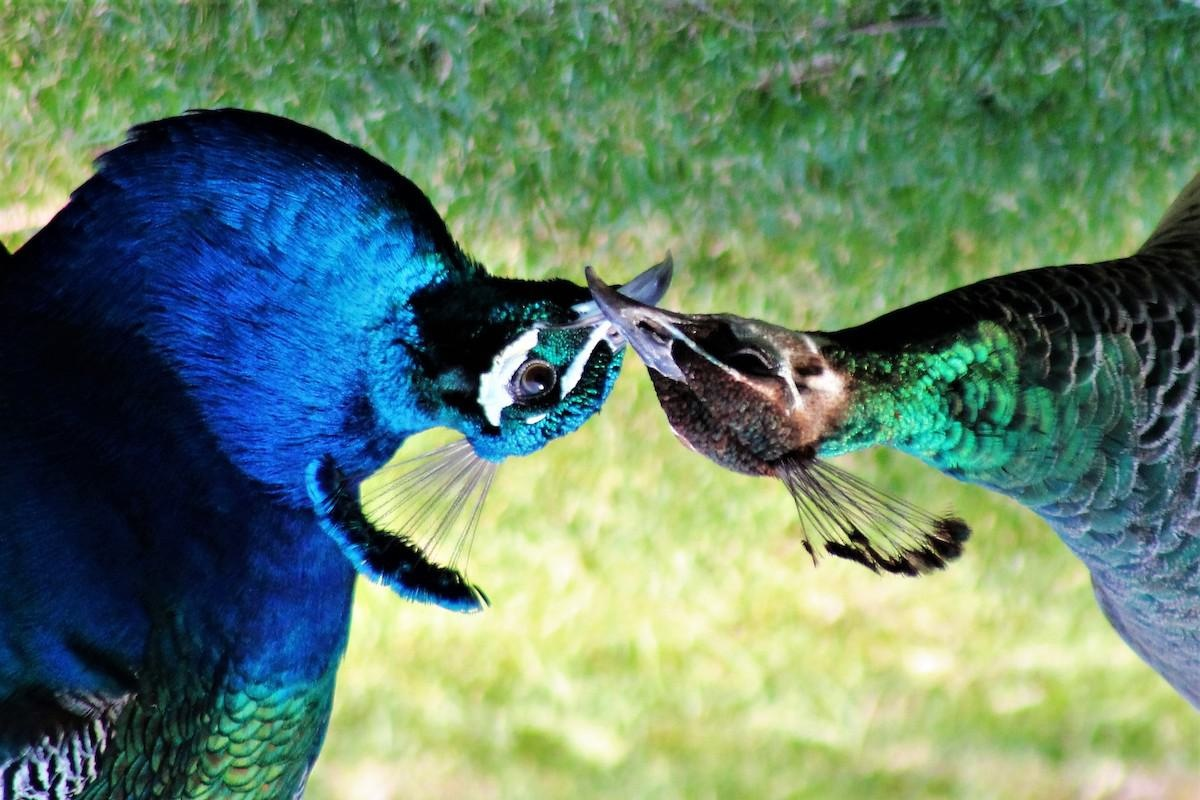peacock: (1, 1, 623, 621), (584, 232, 1200, 760)
